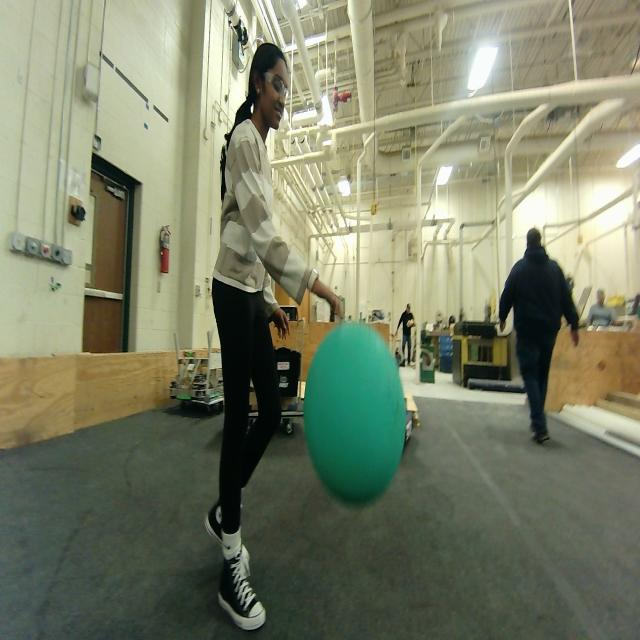algae: (304, 322, 412, 506)
